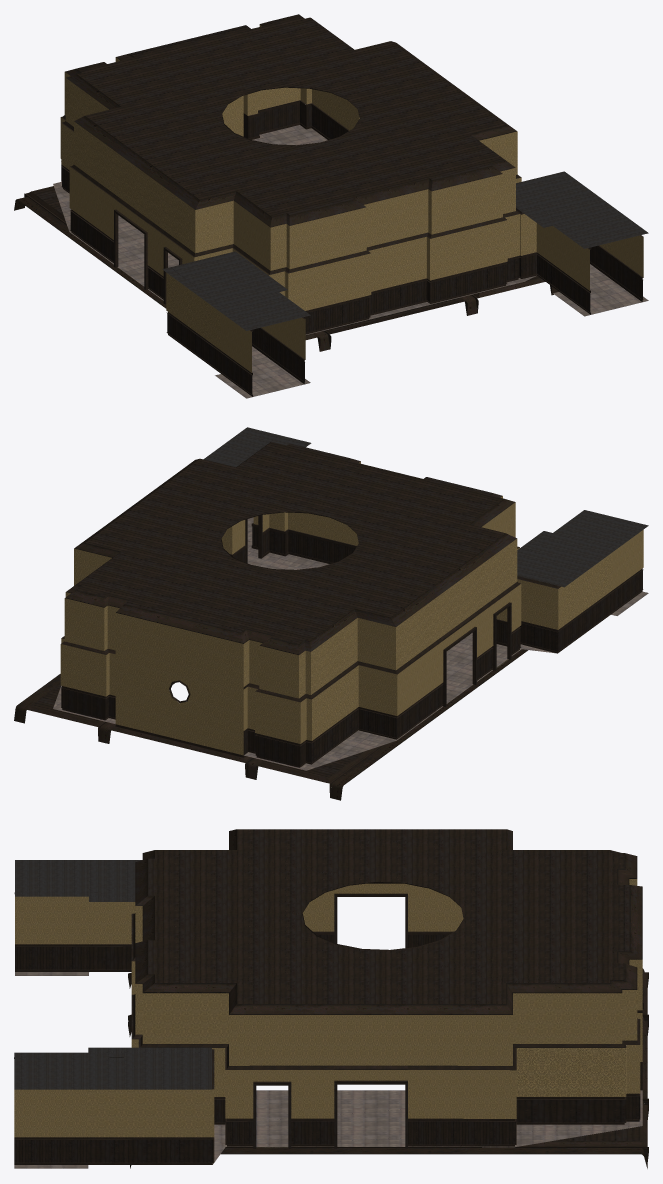
Rendered from #LVL_Entracehall-4.fbx.
3 renders of one model, top to bottom at view 1: azimuth 30°, elevation 25°; view 2: azimuth 150°, elevation 25°; view 3: azimuth 270°, elevation 25°, orthographic. The views are drawn at different scales.
Parts seen in each view (by area): view 1: 1gangobj_004; view 2: 1gangobj_004; view 3: 1gangobj_004.
Part boxes in pixels (left/top/right/bottom): 1gangobj_004: left=14, top=14, right=648, bottom=398; 1gangobj_004: left=14, top=427, right=648, bottom=800; 1gangobj_004: left=14, top=829, right=648, bottom=1168.
Bounding box in the file's own units: 74.79 × 24.39 × 87.36.
